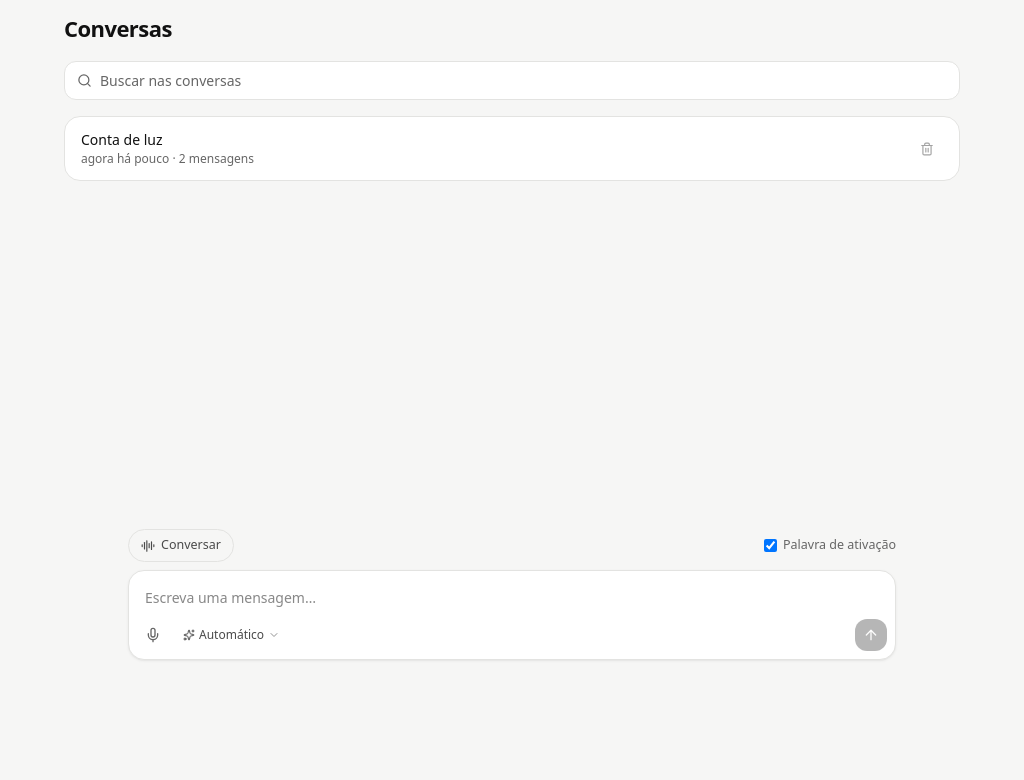
Chat › searches the conversations
The width and height of the screenshot is (1024, 780).
Type "conta de luz" into the search field labelled "Buscar nas conversas" at (524, 80), box [100,70,947,91]
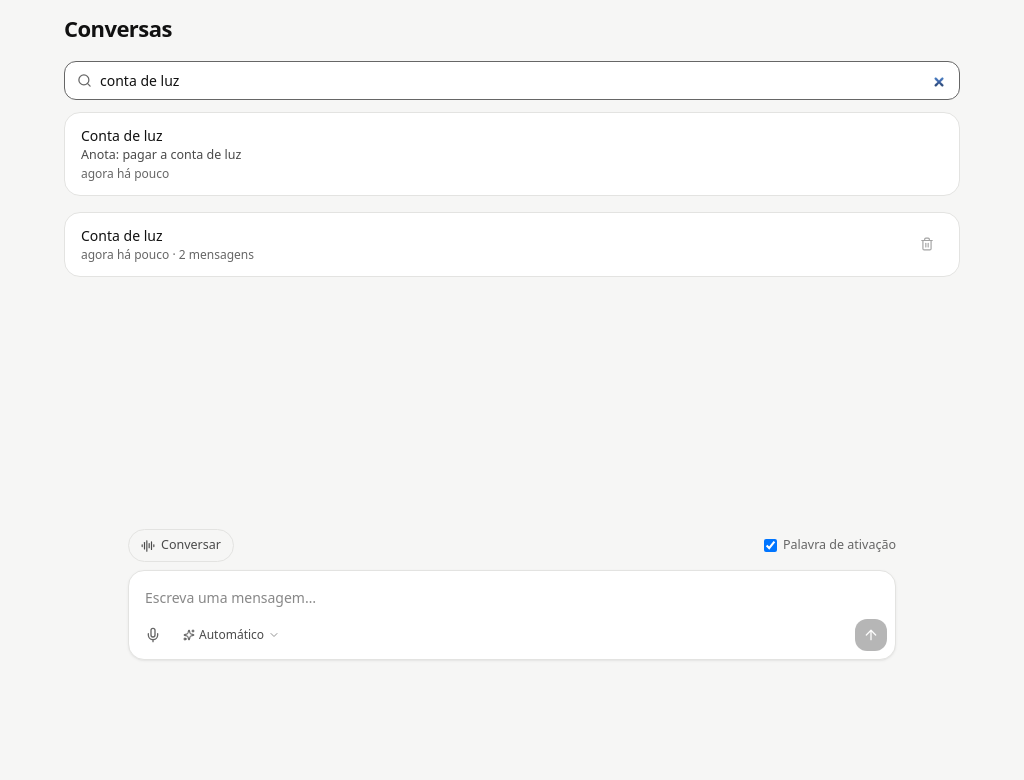
Result: the list named "Resultados da busca" shows "Anota: pagar a conta de luz" at [65,113,959,195]
Replace the text in the search field named "Buscar nas conversas" with "nada" at (524, 80), box [100,70,947,91]
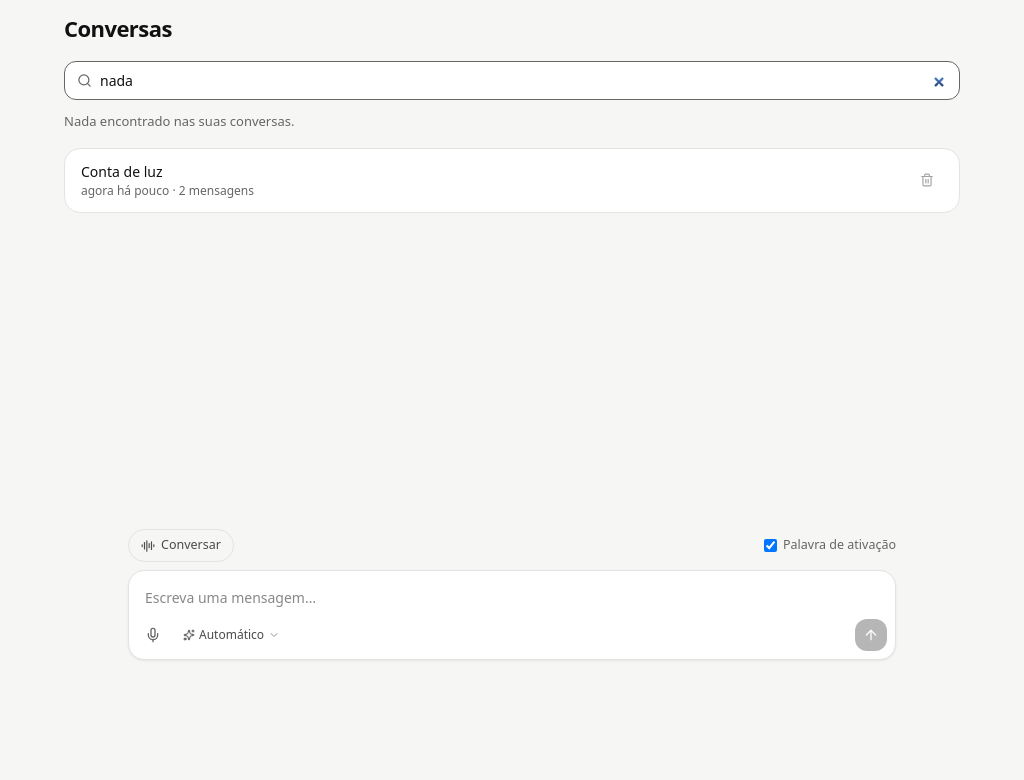
Result: the text "Nada encontrado nas suas conversas." is shown at [64,112,294,130]
